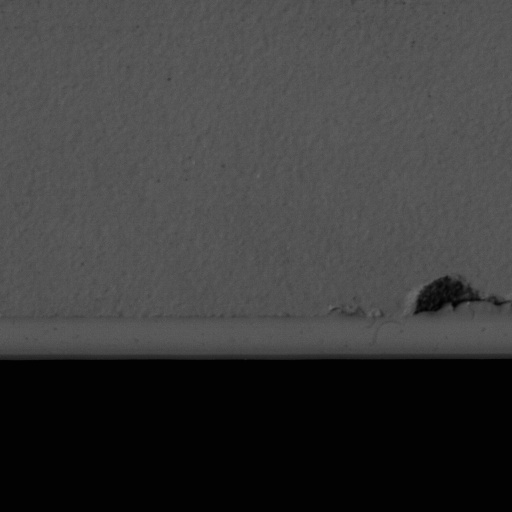bengque: (407, 275, 507, 319)
